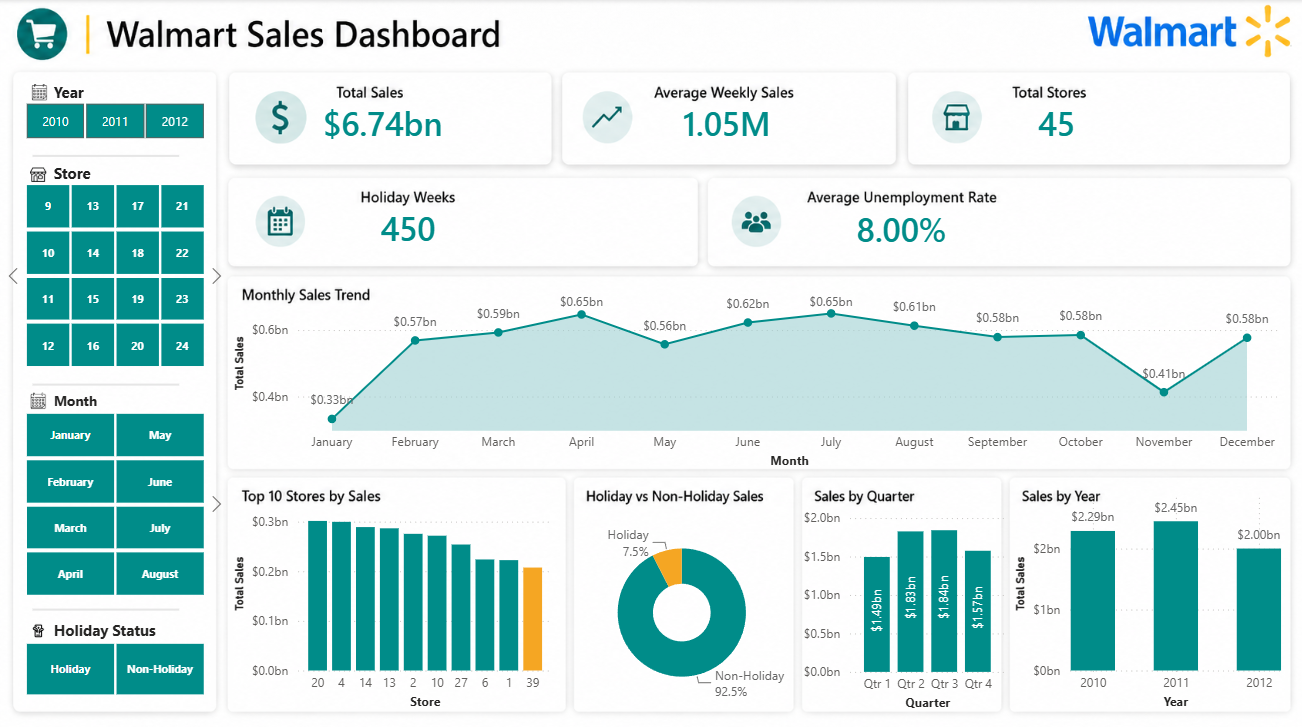

This screenshot's page, from the dashboard's own definition file:
{"tool":"powerbi","page":{"name":"Page 1","canvas":[1280,720],"ordinal":0},"visuals":[{"type":"cardVisual","fields":{"Data":["Walmart_Sales.Total Sales"]},"box":[235.7,78.6,280,84.3],"z":0},{"type":"cardVisual","fields":{"Data":["Walmart_Sales.Average Weekly Sales"]},"box":[572.9,78.6,280,84.3],"z":1000},{"type":"cardVisual","fields":{"Data":["Walmart_Sales.Total Stores"]},"box":[897.1,78.6,280,84.3],"z":2000},{"type":"cardVisual","fields":{"Data":["Walmart_Sales.Holiday Weeks"]},"box":[256,192,288,64],"z":3000},{"type":"cardVisual","fields":{"Data":["Walmart_Sales.Average Unemployment Rate"]},"box":[744.3,187.1,280,74.3],"z":4000},{"type":"lineChart","fields":{"Category":["Walmart_Sales.Data_Clean.Variation.Date Hierarchy.Month"],"Y":["Walmart_Sales.Total Sales"]},"box":[225,278.8,1037.5,187.5],"z":5000},{"type":"columnChart","fields":{"Category":["Walmart_Sales.Store"],"Y":["Walmart_Sales.Total Sales"]},"box":[225,475,322.5,227.5],"z":6000},{"type":"columnChart","fields":{"Category":["Walmart_Sales.Year"],"Y":["Walmart_Sales.Total Sales"]},"box":[991.2,475,271.2,227.5],"z":7000},{"type":"columnChart","fields":{"Category":["Walmart_Sales.Data_Clean.Variation.Date Hierarchy.Quarter"],"Y":["Walmart_Sales.Total Sales"]},"box":[784,496,208,208],"z":8000},{"type":"donutChart","fields":{"Category":["Walmart_Sales.Holiday_Status"],"Y":["Walmart_Sales.Total Sales"]},"box":[563.8,501.2,212.5,201.2],"z":9000},{"type":"slicer","title":"Year","fields":{"Values":["Walmart_Sales.Data_Clean.Variation.Date Hierarchy.Year"]},"box":[0,96,224,48],"z":10000},{"type":"slicer","title":"Holiday Status","fields":{"Values":["Walmart_Sales.Holiday_Status"]},"box":[0,626,224,64],"z":11000},{"type":"slicer","title":"Month","fields":{"Values":["Walmart_Sales.Data_Clean.Variation.Date Hierarchy.Month"]},"box":[0,400,224,192],"z":12000},{"type":"slicer","title":"Store","fields":{"Values":["Walmart_Sales.Store"]},"box":[0,176,224,192],"z":13000},{"type":"image","box":[30,164,16,16],"z":14000},{"type":"textbox","box":[48,76,48,32],"z":15000},{"type":"image","box":[30.5,84,16,16],"z":16000},{"type":"textbox","box":[48,156.4,48,32],"z":17000},{"type":"textbox","box":[48,380.8,64,32],"z":18000},{"type":"image","box":[30,387,16,16],"z":19000},{"type":"textbox","box":[48,605.2,128,32],"z":20000},{"type":"image","box":[30,612,16,16],"z":21000},{"type":"shape","box":[32,145.6,144,16],"z":22000},{"type":"shape","box":[32,370,144,16],"z":23000},{"type":"shape","box":[32,592,144,16],"z":24000}]}

Visuals, with their boxes in screenshot pixels (x1, y1, x2, y2), scaled from the page's 1280x720 canvas onto the 1302x727 screenshot:
cardVisual - Walmart_Sales.Total Sales: box(240, 79, 525, 164)
cardVisual - Walmart_Sales.Average Weekly Sales: box(583, 79, 868, 164)
cardVisual - Walmart_Sales.Total Stores: box(913, 79, 1197, 164)
cardVisual - Walmart_Sales.Holiday Weeks: box(260, 194, 553, 258)
cardVisual - Walmart_Sales.Average Unemployment Rate: box(757, 189, 1042, 264)
lineChart - Walmart_Sales.Data_Clean.Variation.Date Hierarchy.Month x Walmart_Sales.Total Sales: box(229, 282, 1284, 471)
columnChart - Walmart_Sales.Store x Walmart_Sales.Total Sales: box(229, 480, 557, 709)
columnChart - Walmart_Sales.Year x Walmart_Sales.Total Sales: box(1008, 480, 1284, 709)
columnChart - Walmart_Sales.Data_Clean.Variation.Date Hierarchy.Quarter x Walmart_Sales.Total Sales: box(797, 501, 1009, 711)
donutChart - Walmart_Sales.Holiday_Status x Walmart_Sales.Total Sales: box(573, 506, 790, 709)
"Year" slicer: box(0, 97, 228, 145)
"Holiday Status" slicer: box(0, 632, 228, 697)
"Month" slicer: box(0, 404, 228, 598)
"Store" slicer: box(0, 178, 228, 372)
image: box(31, 166, 47, 182)
textbox: box(49, 77, 98, 109)
image: box(31, 85, 47, 101)
textbox: box(49, 158, 98, 190)
textbox: box(49, 385, 114, 417)
image: box(31, 391, 47, 407)
textbox: box(49, 611, 179, 643)
image: box(31, 618, 47, 634)
shape: box(33, 147, 179, 163)
shape: box(33, 374, 179, 390)
shape: box(33, 598, 179, 614)
